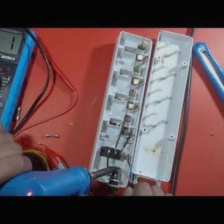three_eye_plug: (86, 30, 156, 192)
